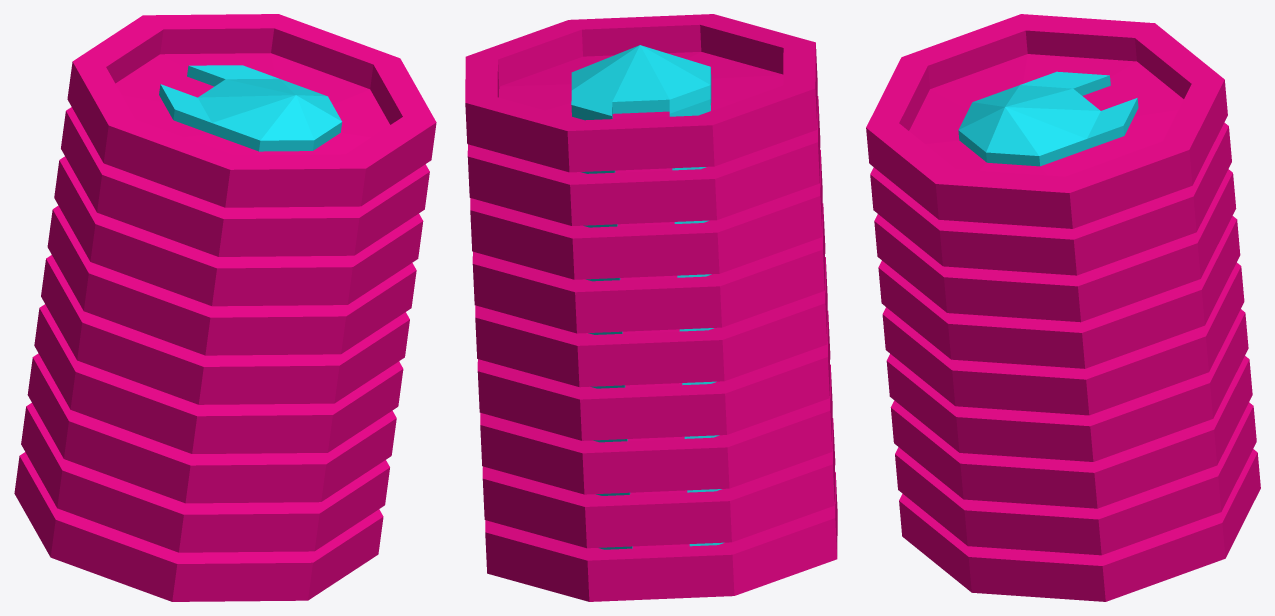
Rendered from meelk_tokentower3.glb.
3 views of the same model, side by side, from view 1: azimuth 30°, elevation 25°; view 2: azimuth 150°, elevation 25°; view 3: azimuth 270°, elevation 25° (orthographic). The views are drawn at different scales.
Parts seen in each view (by area): view 1: Cylinder.010; view 2: Cylinder.010; view 3: Cylinder.010.
Boxes of the visible parts, left/top/right/bottom form: Cylinder.010: left=14, top=14, right=436, bottom=601; Cylinder.010: left=465, top=14, right=837, bottom=601; Cylinder.010: left=866, top=14, right=1260, bottom=601.
Size of the model in its own units: 0.3133 by 0.4007 by 0.3065.
